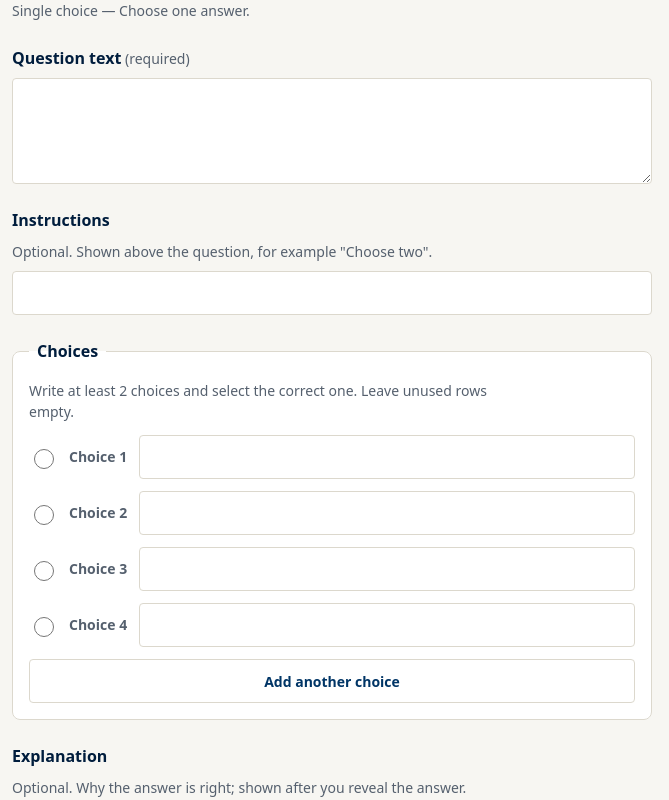
Test: QuestionForm › reports missing question text
The image size is (669, 800).
Type "First" into the field labelled "Choice 1". click: (387, 457)
box: left=139, top=435, right=635, bottom=479
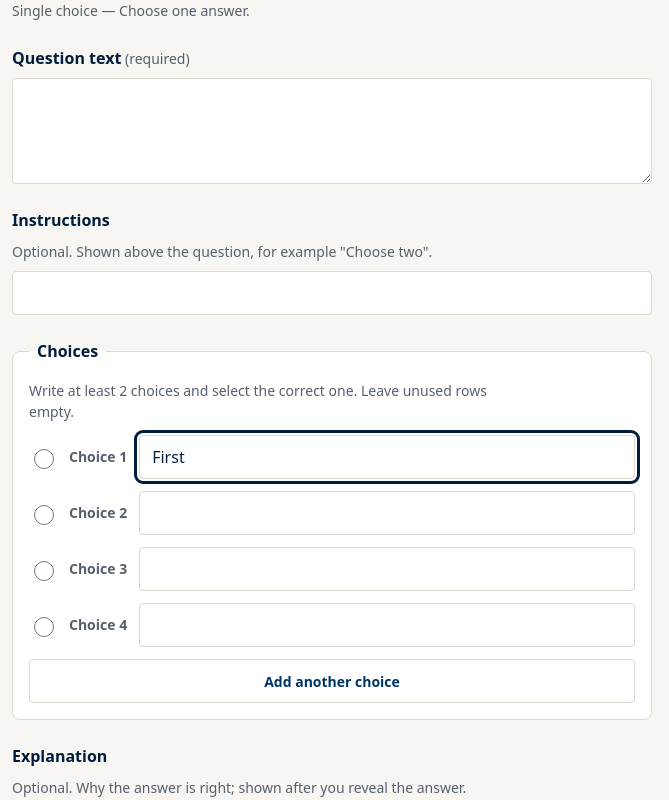
Type "Second" into the field labelled "Choice 2". click: (387, 513)
box: left=139, top=491, right=635, bottom=535
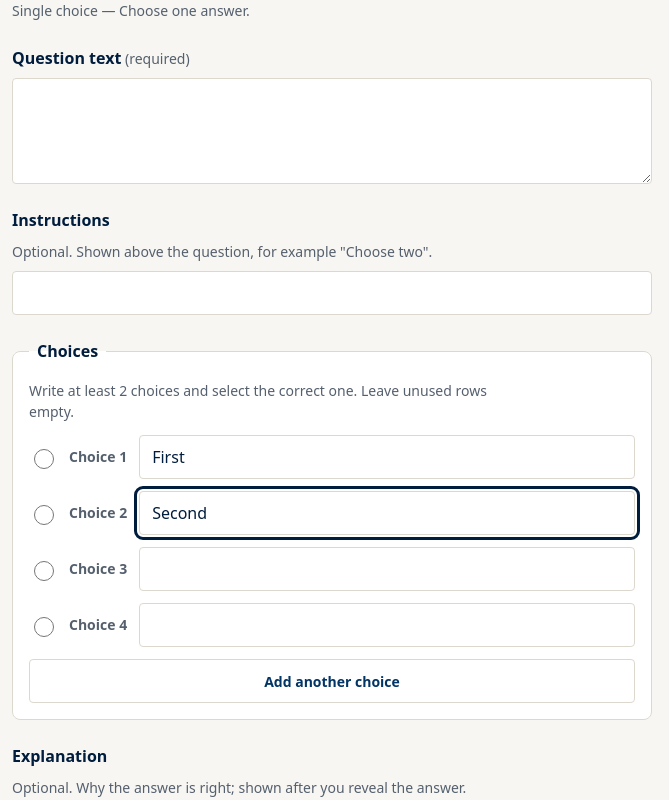
Click the radio button named "choice 1 is correct". click: click(44, 459)
box: left=34, top=449, right=54, bottom=469
(page scrolled)
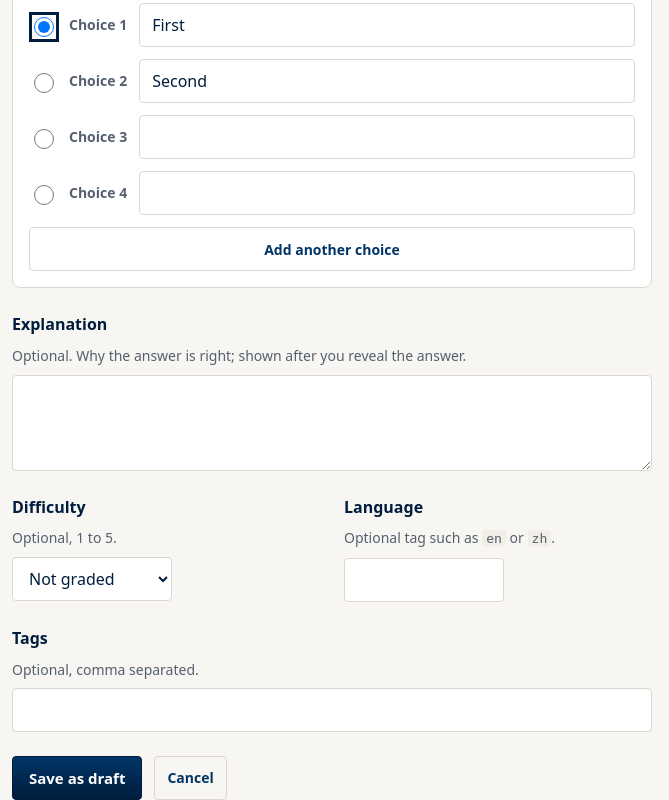
Click the button "Save as draft". click: click(77, 778)
box: left=12, top=756, right=142, bottom=799
(page scrolled)
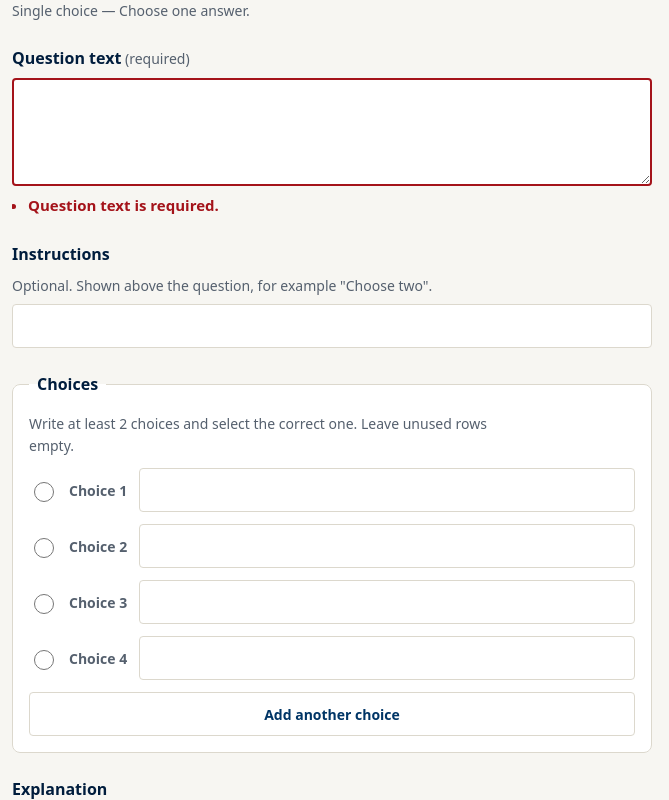
Result: the message shows "Question text is required" at left=28, top=196, right=219, bottom=216
